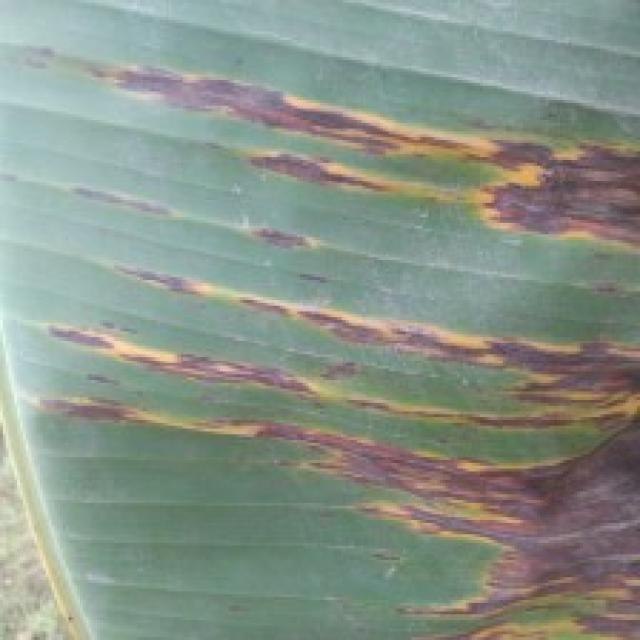Early_leaf_spot: (0, 220, 640, 640), (6, 37, 640, 255)
